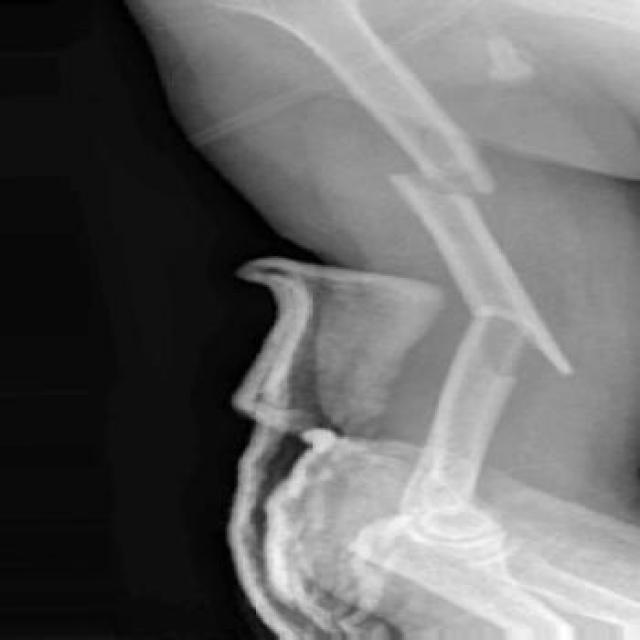Fracture: (452, 289, 590, 384), (361, 154, 515, 206)
